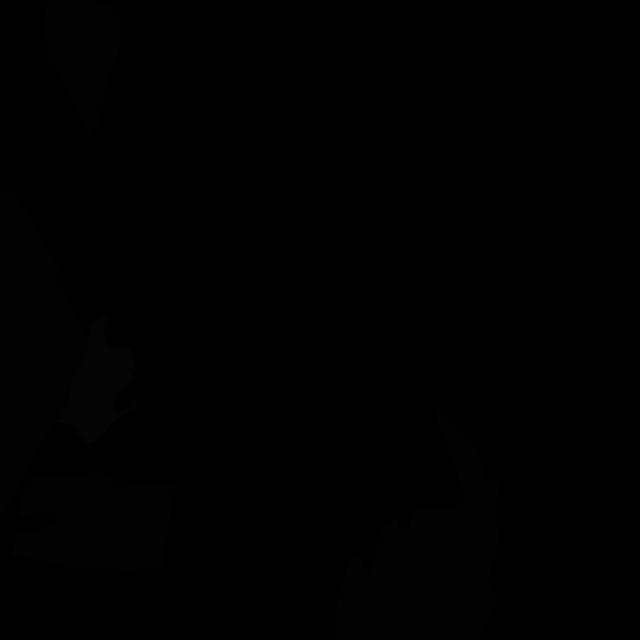cardboard: (333, 405, 500, 640), (0, 185, 88, 520), (11, 465, 175, 571), (43, 0, 123, 137)
soft_plastic: (56, 315, 136, 445)
